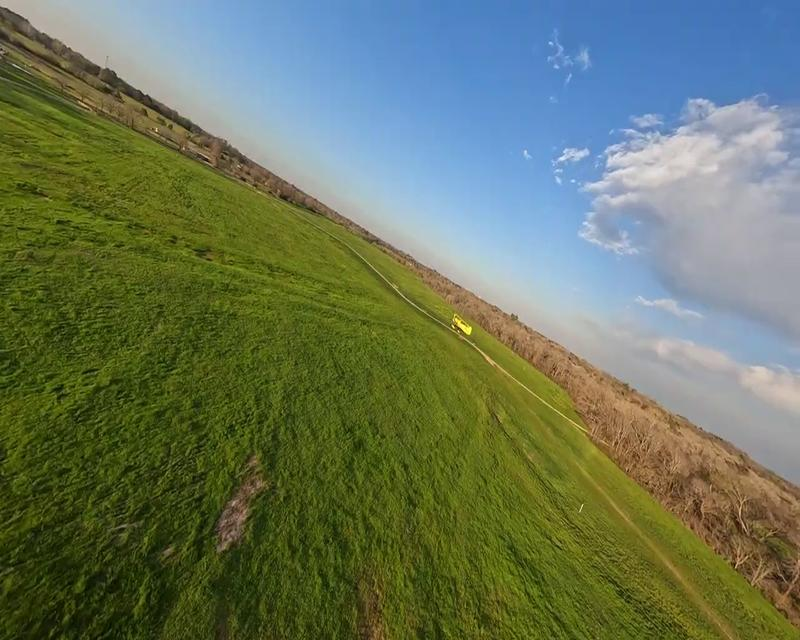UAV: (450, 312, 473, 336)
